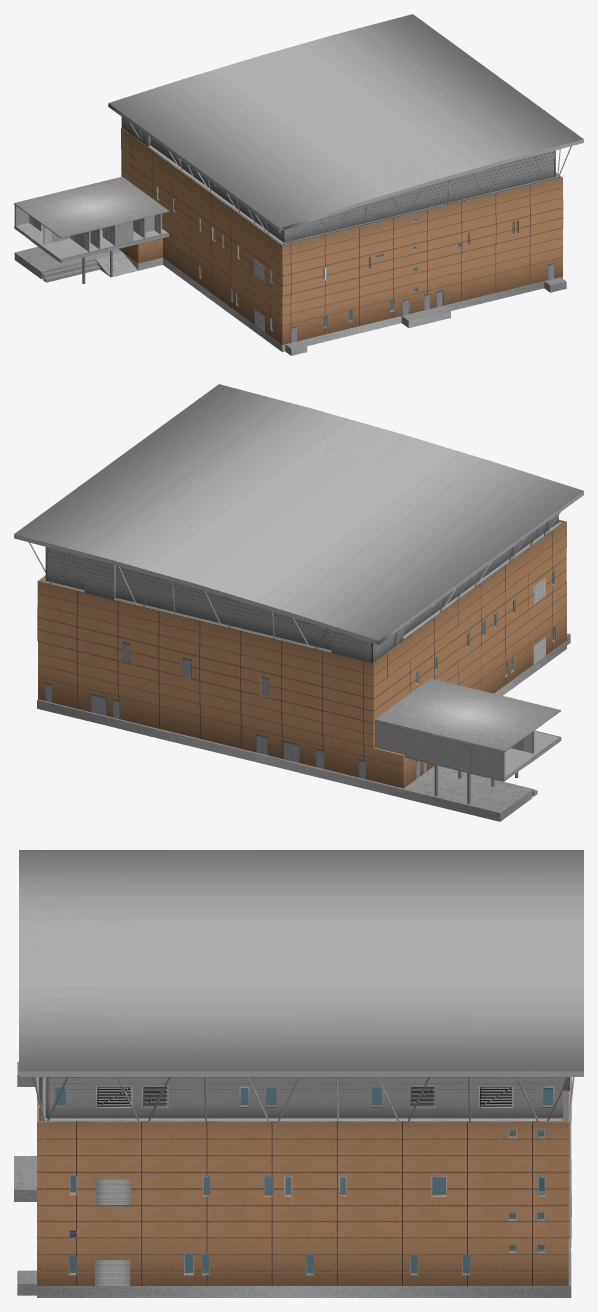
3 views of the same model, one above another, from view 1: azimuth 30°, elevation 25°; view 2: azimuth 150°, elevation 25°; view 3: azimuth 270°, elevation 25° (orthographic). The views are drawn at different scales.
Visible parts, largest first — view 1: Box1830, RP1, Polyline, Box120, Box578, Line002, Box2108, Line189, Box707, Line146, Box3093, Box386; view 2: Box1830, RP1, Polyline, Box120, Box578, Line002, Box2108, Box707, Box386, Line146, Line189; view 3: Box1830, RP1, Polyline, Box120, Box578, Line002, Box3093, Line146, Box530, Box2232, Box2233.
Part boxes in pixels (x1,y1,x2,y2): Box1830: (108, 14, 583, 231); RP1: (121, 128, 562, 317); Polyline: (121, 150, 563, 295); Box120: (119, 201, 562, 344); Box578: (121, 117, 555, 242); Line002: (14, 218, 566, 355); Box2108: (14, 176, 169, 238); Line189: (14, 223, 168, 262); Box707: (14, 205, 162, 251); Line146: (122, 128, 561, 245); Box3093: (157, 158, 517, 330); Box386: (291, 263, 554, 342); Box1830: (14, 384, 583, 644); RP1: (37, 519, 566, 748); Polyline: (37, 548, 566, 722); Box120: (38, 600, 566, 788); Box578: (45, 514, 558, 662); Line002: (37, 622, 570, 821); Box2108: (375, 678, 560, 752); Box707: (375, 721, 534, 781); Box386: (44, 628, 553, 779); Line146: (40, 520, 565, 662); Line189: (403, 730, 561, 781); Box1830: (19, 850, 583, 1076); RP1: (37, 1077, 569, 1240); Polyline: (37, 1158, 569, 1205); Box120: (37, 1240, 568, 1285); Box578: (45, 1077, 569, 1118); Line002: (14, 1062, 571, 1297); Box3093: (54, 1086, 554, 1274); Line146: (38, 1077, 568, 1121); Box530: (95, 1179, 130, 1285); Box2232: (96, 1086, 132, 1107); Box2233: (479, 1086, 513, 1107).
Size of the model in its own units: 59.22 by 20.27 by 43.77.
Materials: 14 (12 with a texture image).
